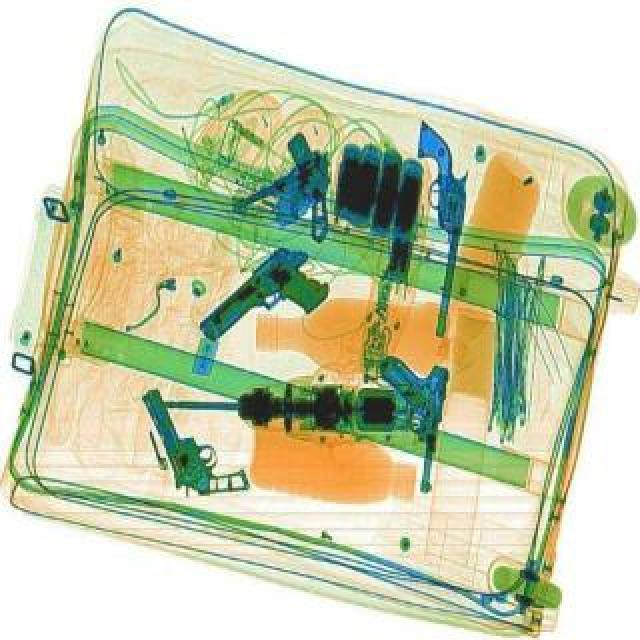gun: (190, 236, 342, 372), (390, 116, 478, 338), (228, 146, 366, 266), (138, 368, 250, 508), (368, 354, 452, 492)
